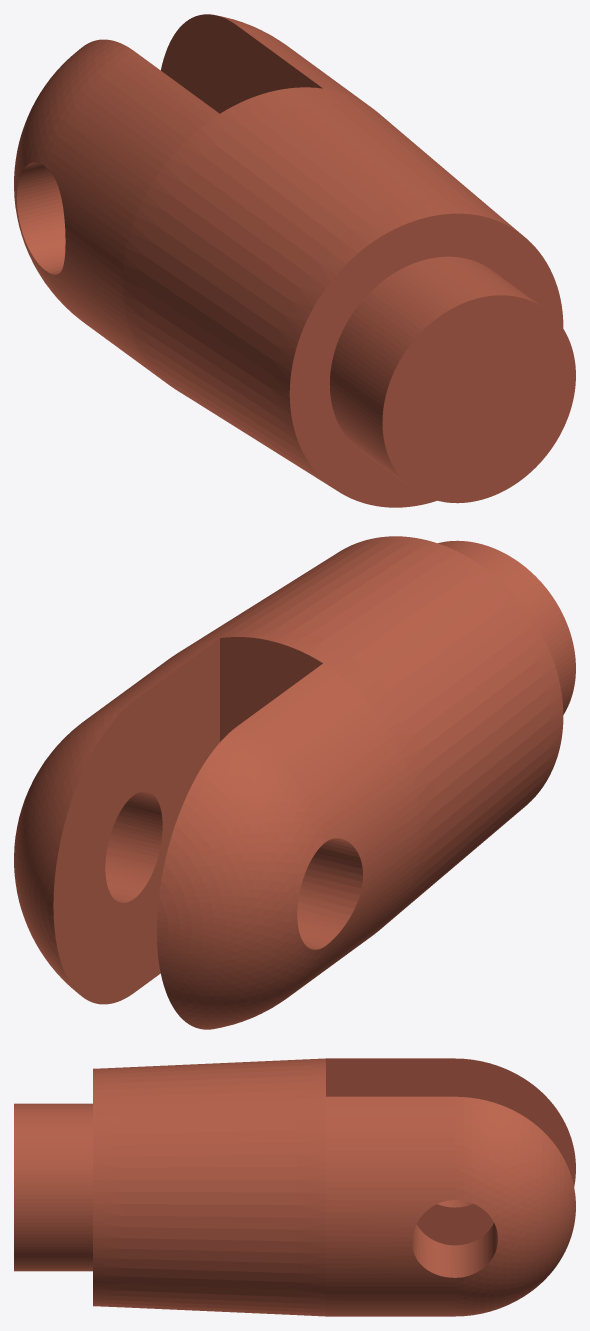
The picture shows the model from 3 angles, top to bottom: view 1: azimuth 30°, elevation 25°; view 2: azimuth 150°, elevation 25°; view 3: azimuth 270°, elevation 25°; orthographic projection. The views are drawn at different scales.
Parts seen in each view (by area): view 1: node; view 2: node; view 3: node.
Boxes of the visible parts, box(x1,y1,x2,y2) form: node: box(14, 14, 575, 507); node: box(14, 536, 575, 1029); node: box(14, 1058, 575, 1316).
Size of the model in its own units: 0.0831 by 0.0831 by 0.181.
